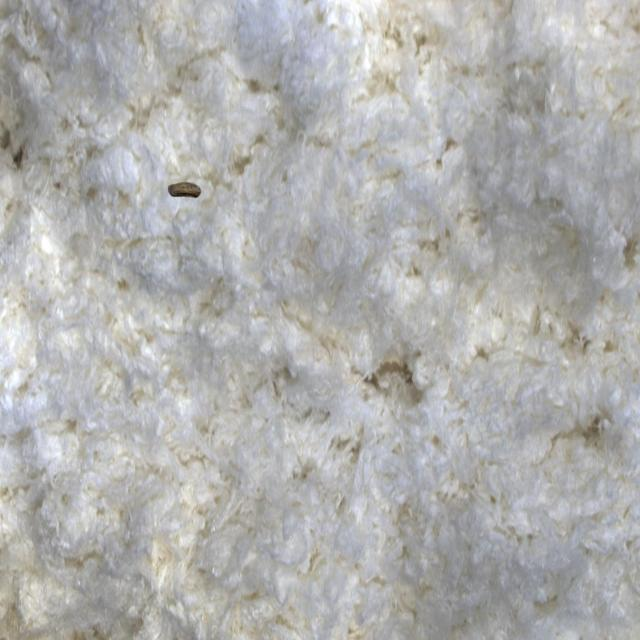dust: (154, 155, 212, 232)
